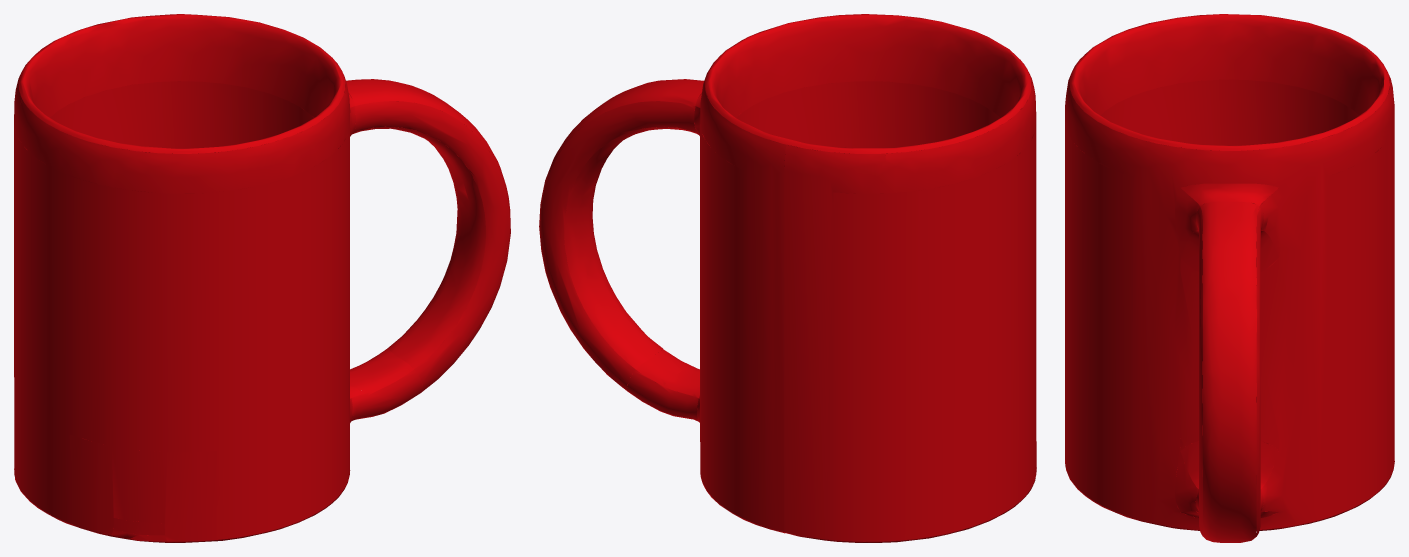
File: stylized_coffee_mug.glb
3 views of the same model, side by side, from view 1: azimuth 30°, elevation 25°; view 2: azimuth 150°, elevation 25°; view 3: azimuth 270°, elevation 25° (orthographic). The views are drawn at different scales.
Parts seen in each view (by area): view 1: Tasse, Tasse_Material_0.001; view 2: Tasse, Tasse_Material_0.001; view 3: Tasse, Tasse_Material_0.001.
Boxes of the visible parts, bbox=[...] form: Tasse: bbox=[14, 14, 510, 542]; Tasse_Material_0.001: bbox=[335, 93, 509, 420]; Tasse: bbox=[539, 14, 1036, 542]; Tasse_Material_0.001: bbox=[540, 93, 714, 420]; Tasse: bbox=[1065, 14, 1394, 542]; Tasse_Material_0.001: bbox=[1196, 207, 1263, 536].
Size of the model in its own units: 0.131 by 0.105 by 0.0819.
